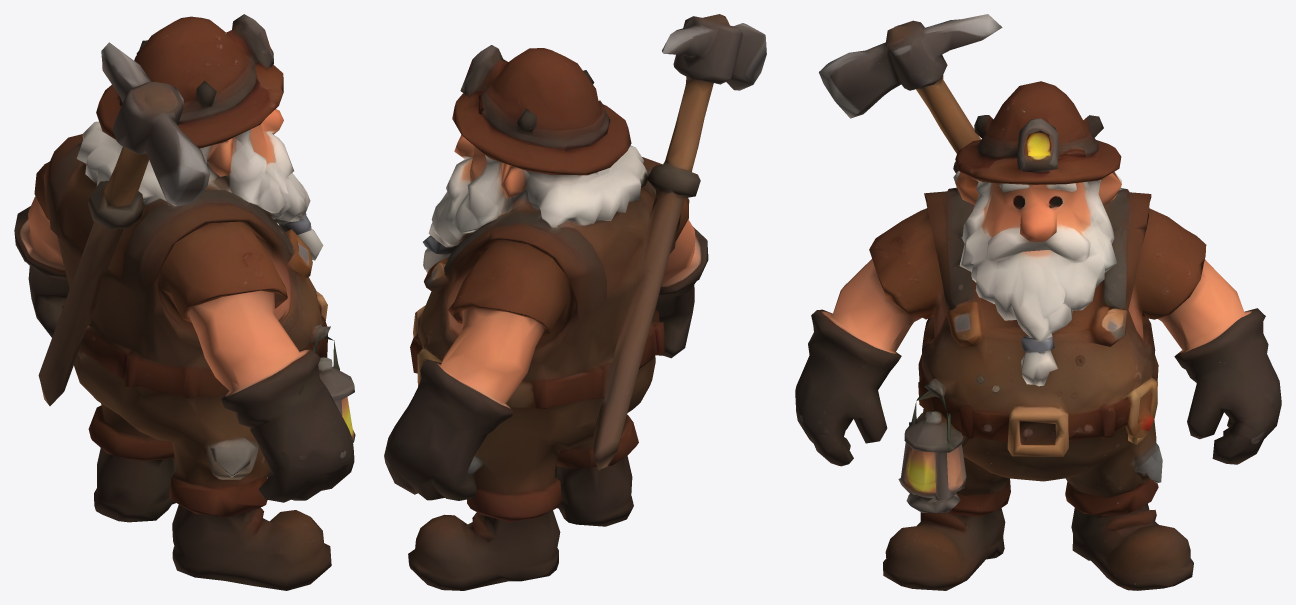
The model's file is villager_miner.glb.
3 renders of one model, left to right at view 1: azimuth 30°, elevation 25°; view 2: azimuth 150°, elevation 25°; view 3: azimuth 270°, elevation 25°, orthographic. The views are drawn at different scales.
Parts seen in each view (by area): view 1: tripo_node_2e832757-bfd7-449b-b6ae-beab28d74a63; view 2: tripo_node_2e832757-bfd7-449b-b6ae-beab28d74a63; view 3: tripo_node_2e832757-bfd7-449b-b6ae-beab28d74a63.
Boxes of the visible parts, box(x1,y1,x2,y2) form: tripo_node_2e832757-bfd7-449b-b6ae-beab28d74a63: box(14, 14, 355, 590); tripo_node_2e832757-bfd7-449b-b6ae-beab28d74a63: box(384, 14, 766, 590); tripo_node_2e832757-bfd7-449b-b6ae-beab28d74a63: box(795, 14, 1281, 590).
Bounding box in the file's own units: 0.5073 × 1 × 0.8812.
1 material, 1 textured.
